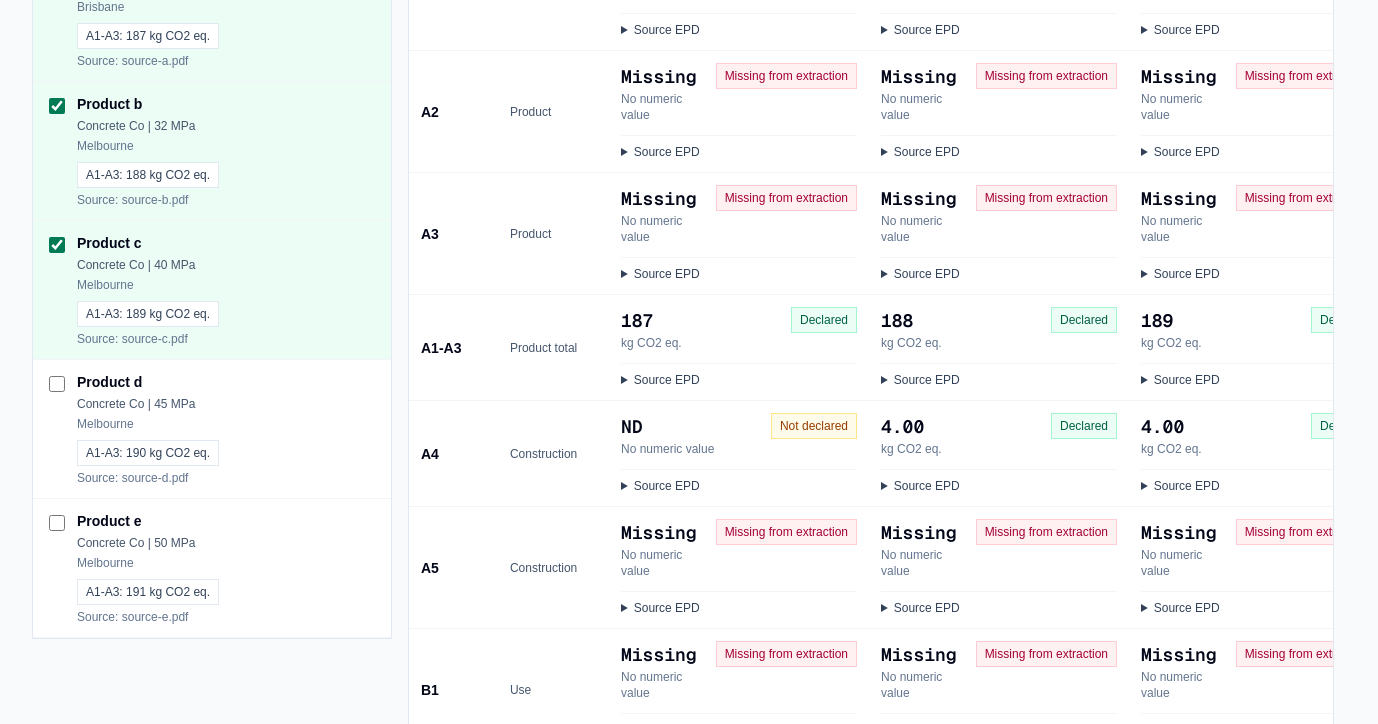
Test: CarbonComparisonApp › replaces the oldest selected product at the selection limit and clears filters
The width and height of the screenshot is (1378, 724).
(page scrolled)
Click the 3rd checkbox.
click(57, 384)  # box [49, 376, 65, 392]
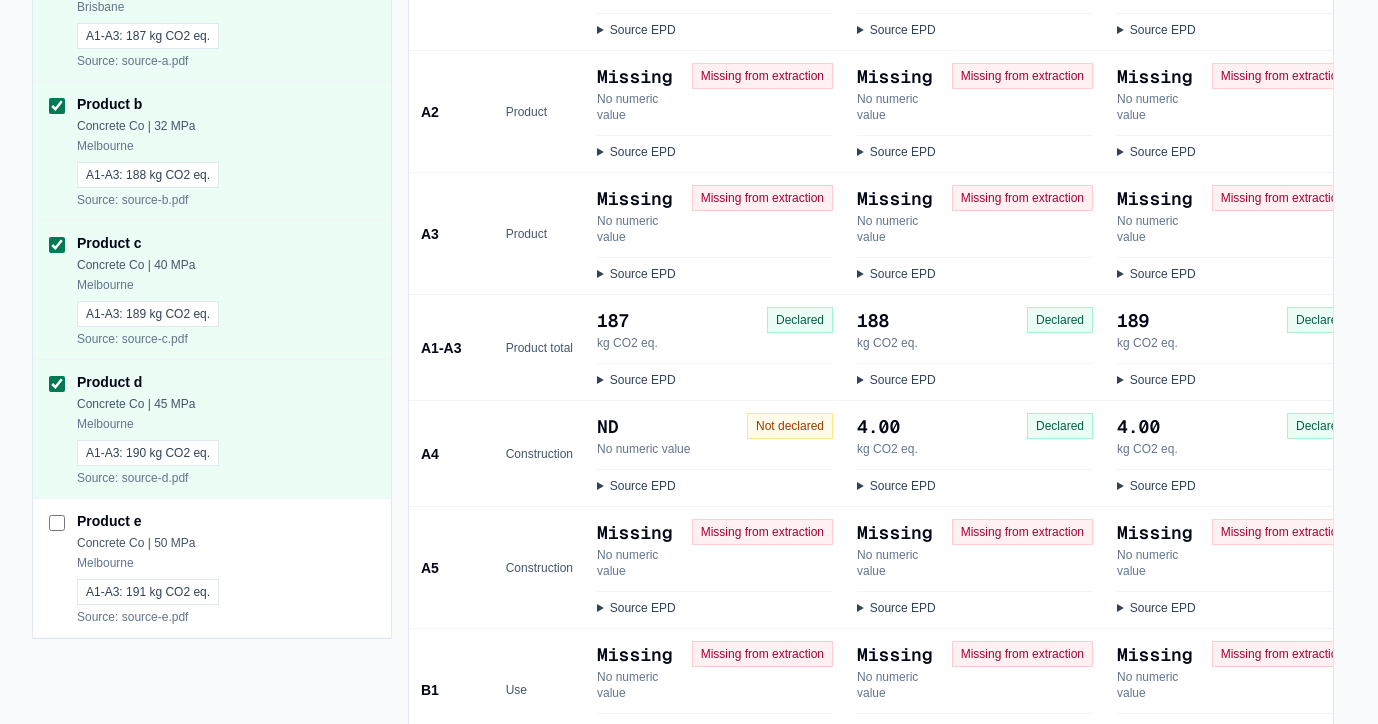
Click the 4th checkbox.
click(57, 523)  # box [49, 515, 65, 531]
(page scrolled)
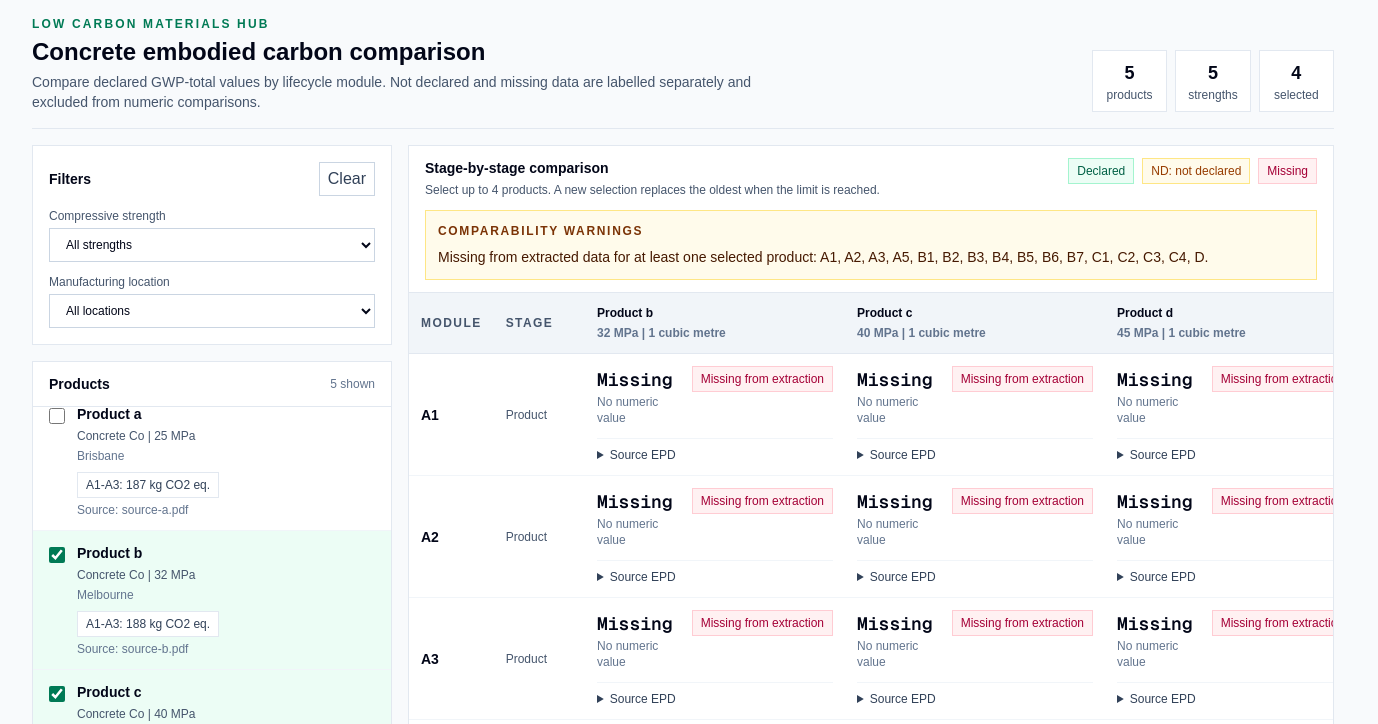
Select "25 MPa" in the dropdown labelled "Compressive strength" at x=212, y=245, box [49, 228, 375, 262]
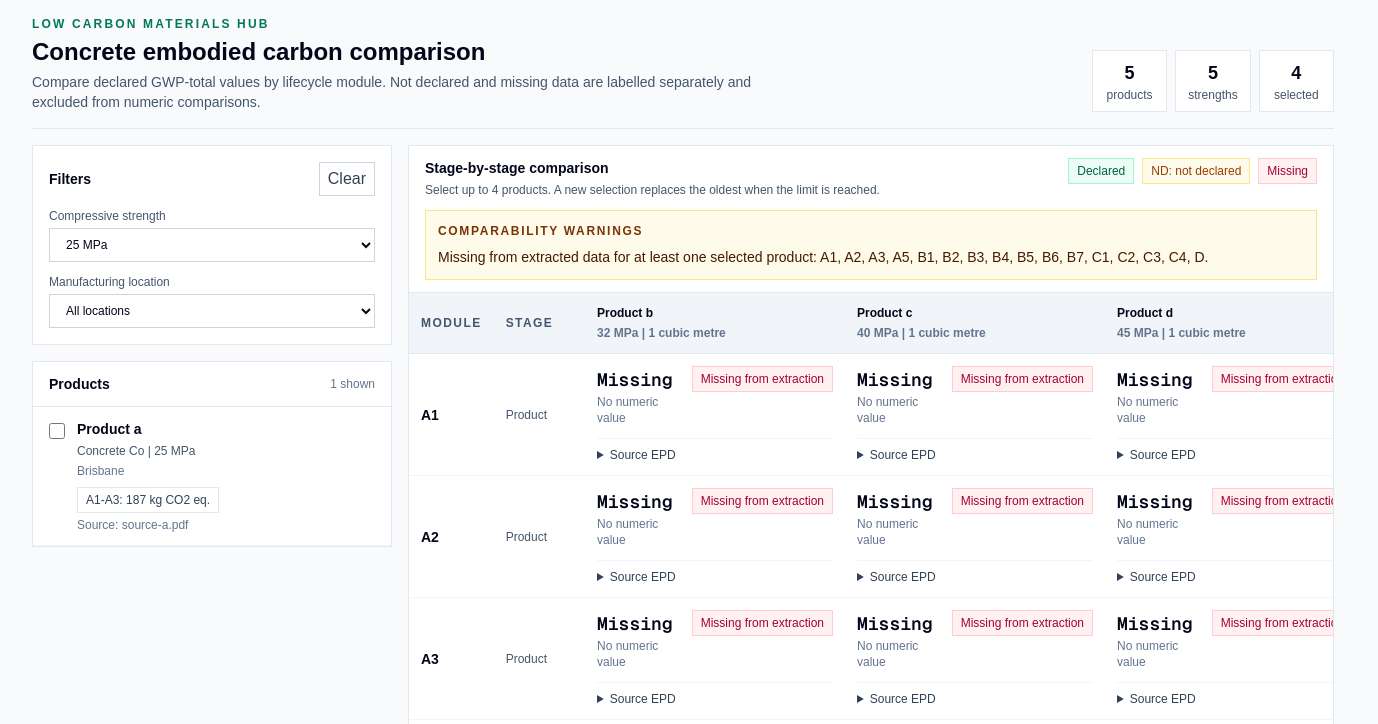
Expected: the text "1 shown" is shown, [330, 376, 375, 392]
Click the button "Clear".
click(347, 179)  # box [319, 162, 375, 196]
(page scrolled)
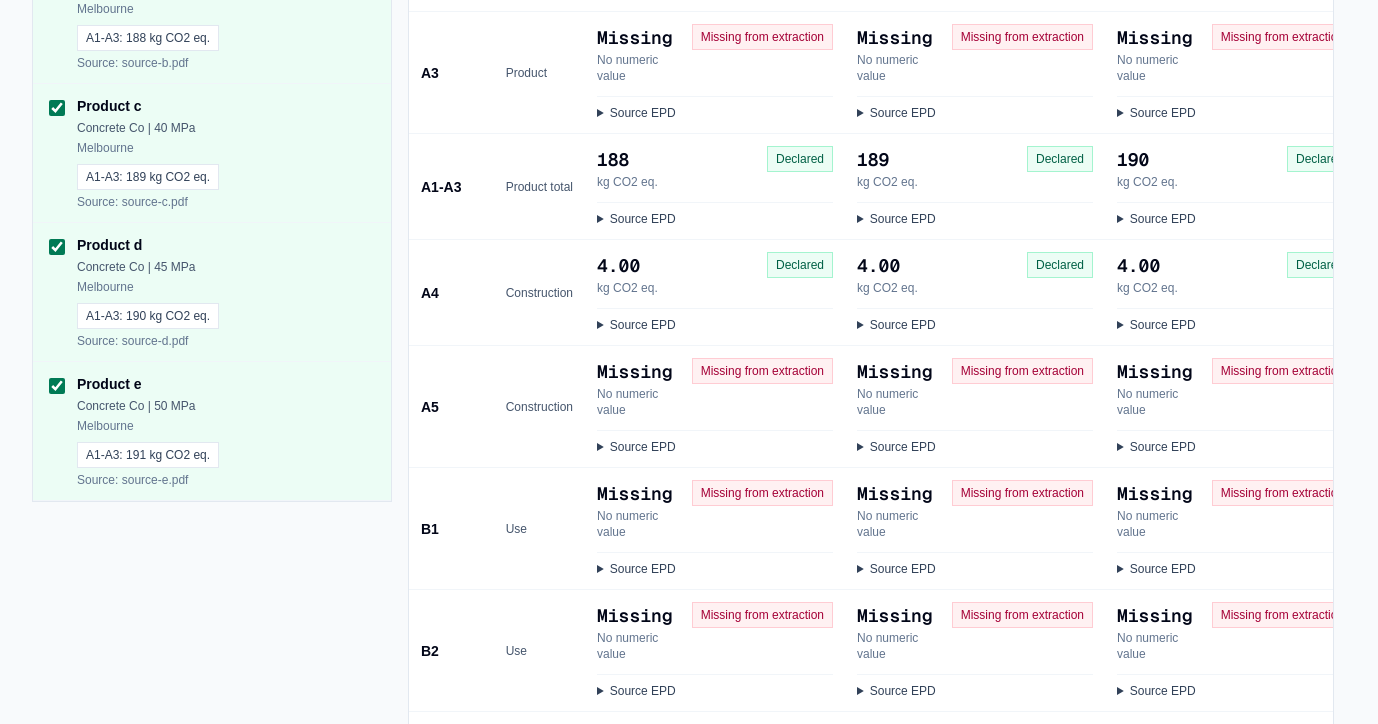
Expected: the text "Product e" is shown, [77, 376, 142, 392]
